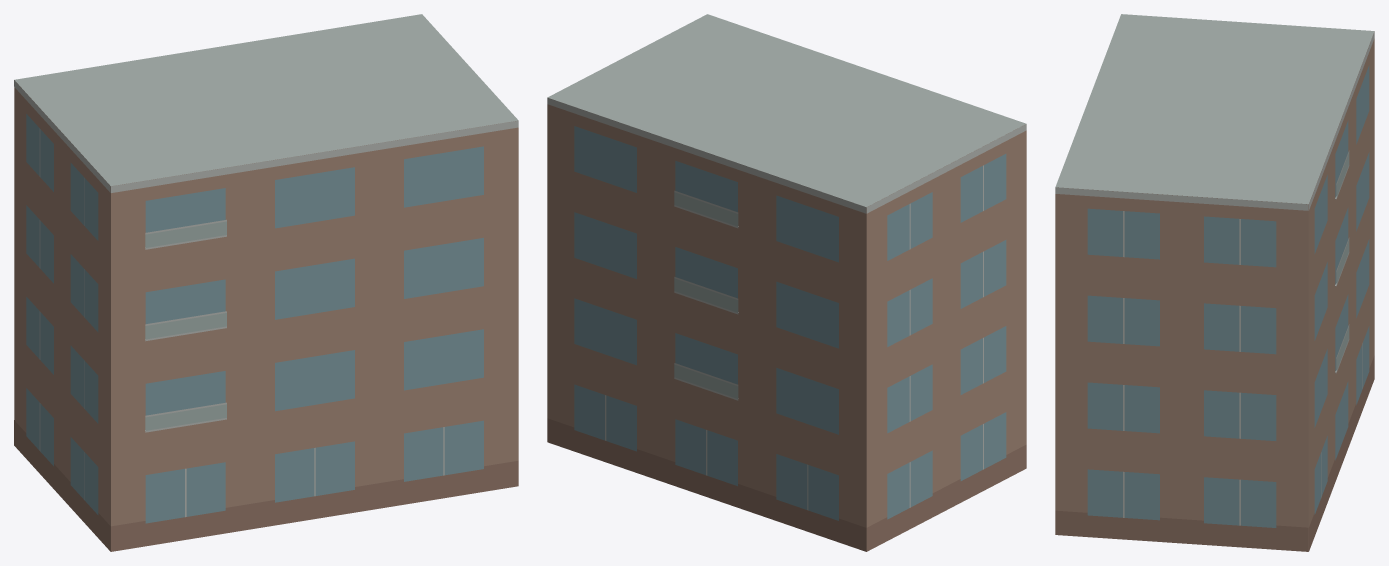
The model's file is survey-upis-32808772.glb.
3 renders of one model, left to right at view 1: azimuth 30°, elevation 25°; view 2: azimuth 150°, elevation 25°; view 3: azimuth 270°, elevation 25°, orthographic. The views are drawn at different scales.
Visible parts, largest first — view 1: survey-upis-32808772.tmp; view 2: survey-upis-32808772.tmp; view 3: survey-upis-32808772.tmp.
Boxes of the visible parts, bbox=[...] form: survey-upis-32808772.tmp: bbox=[14, 14, 518, 551]; survey-upis-32808772.tmp: bbox=[547, 14, 1026, 551]; survey-upis-32808772.tmp: bbox=[1055, 14, 1374, 551].
Size of the model in its own units: 15.03 by 12.8 by 10.66.
